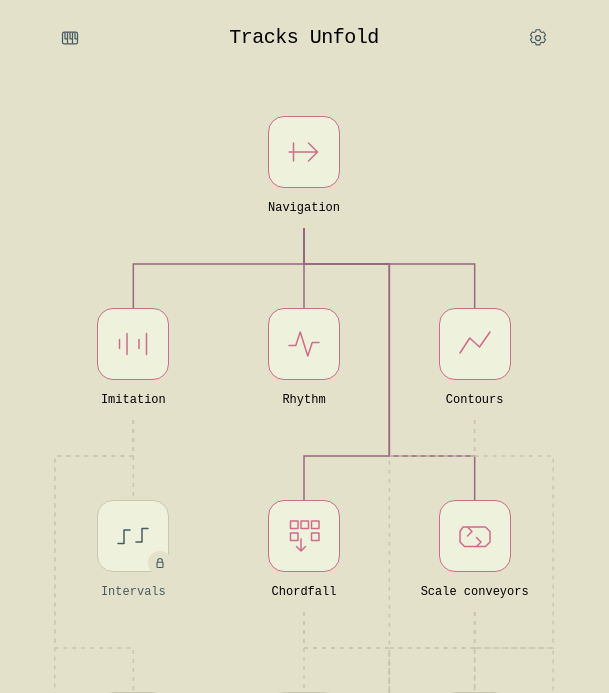
Test: App › keeps unsaved choices active and reports persistence failure
Step 1. Click the button named "Instrument" → {"x": 70, "y": 38}, box [48, 16, 92, 60]
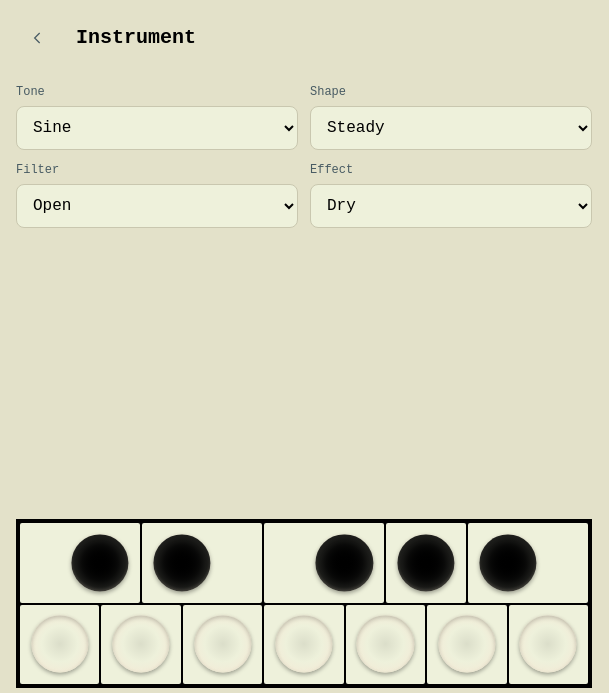
Step 2. Select "Triangle" in the dropdown labelled "Tone" → {"x": 157, "y": 128}, box [16, 106, 298, 150]
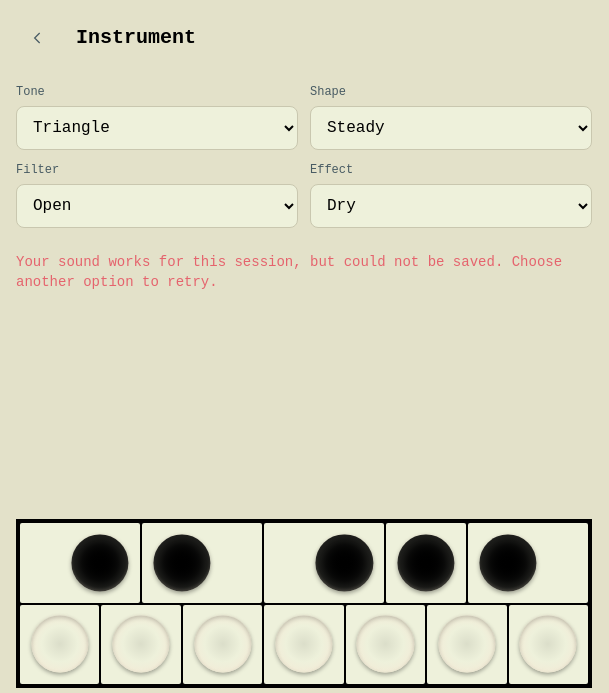
Expected: the message shows "could not be saved", [16, 254, 562, 290]
